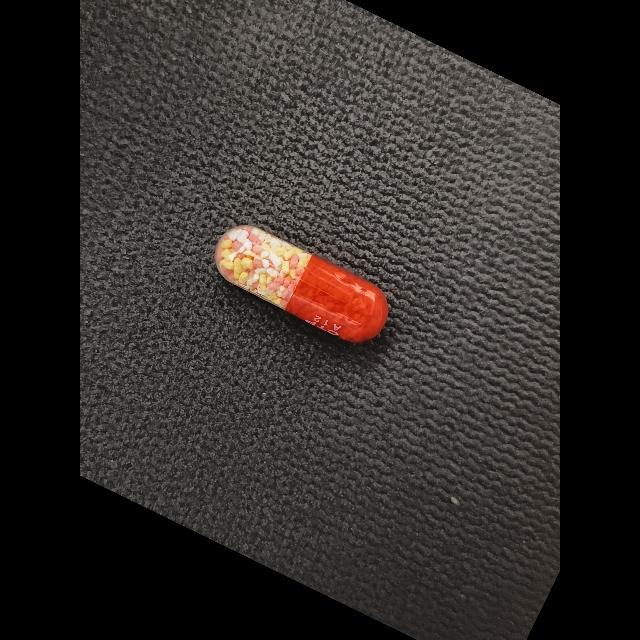Intact Capsule: (215, 225, 389, 342)
